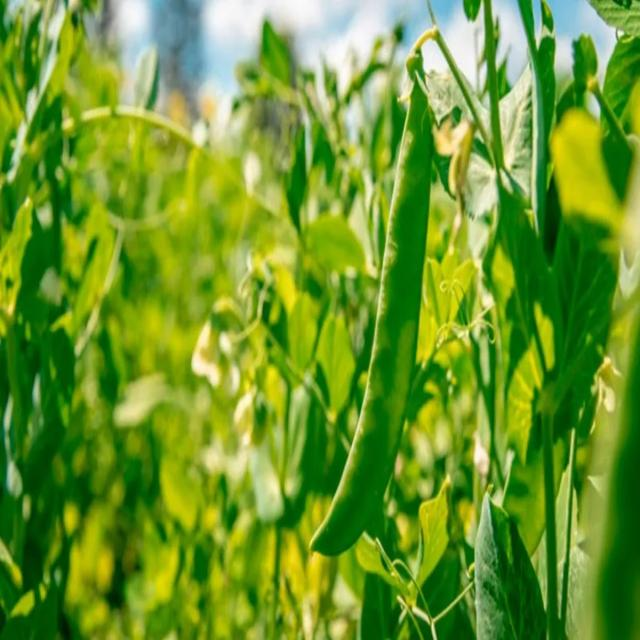aguacate: (378, 82, 452, 378)
